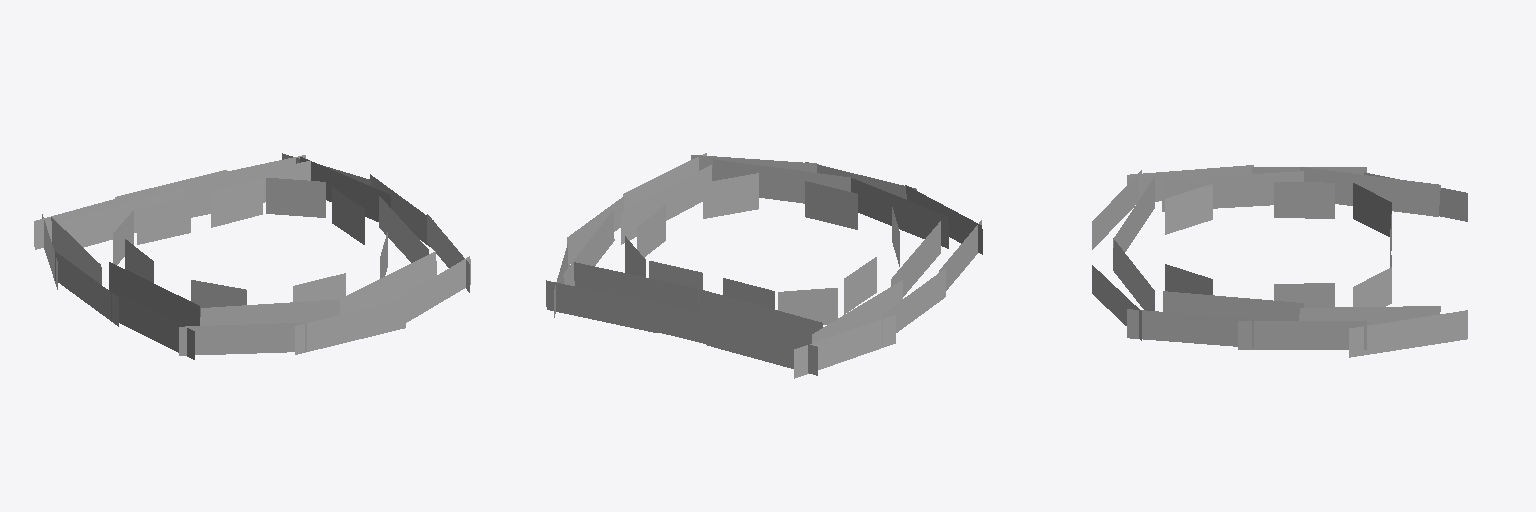
File: plants.obj
3 renders of one model, left to right at view 1: azimuth 30°, elevation 25°; view 2: azimuth 150°, elevation 25°; view 3: azimuth 270°, elevation 25°, orthographic.
Parts seen in each view (by area): view 1: 博麗神社風ステージ_mesh_博麗神社風ステージ; view 2: 博麗神社風ステージ_mesh_博麗神社風ステージ; view 3: 博麗神社風ステージ_mesh_博麗神社風ステージ.
Part boxes in pixels (bbox=[...]): 博麗神社風ステージ_mesh_博麗神社風ステージ: bbox=[34, 153, 470, 359]; 博麗神社風ステージ_mesh_博麗神社風ステージ: bbox=[546, 153, 982, 378]; 博麗神社風ステージ_mesh_博麗神社風ステージ: bbox=[1092, 165, 1467, 357].
Size of the model in its own units: 130 by 18.76 by 130.